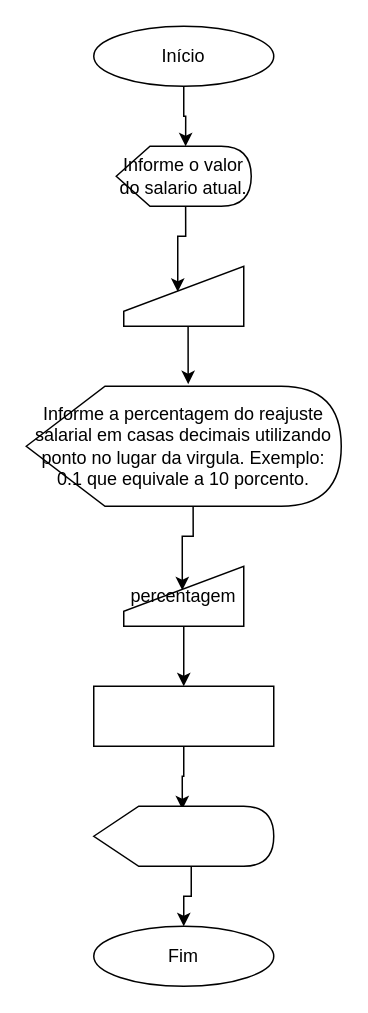
Image size: 368x1013. Some labels were removed from this diagram. The centre of each missing label's shape, as x and y in pixels:
O salario foi reajustado para: salario_reajustado: (x=183, y=835)
salario: (x=183, y=295)
salario_reajustado <- salario + percentagem * salario: (x=183, y=715)
